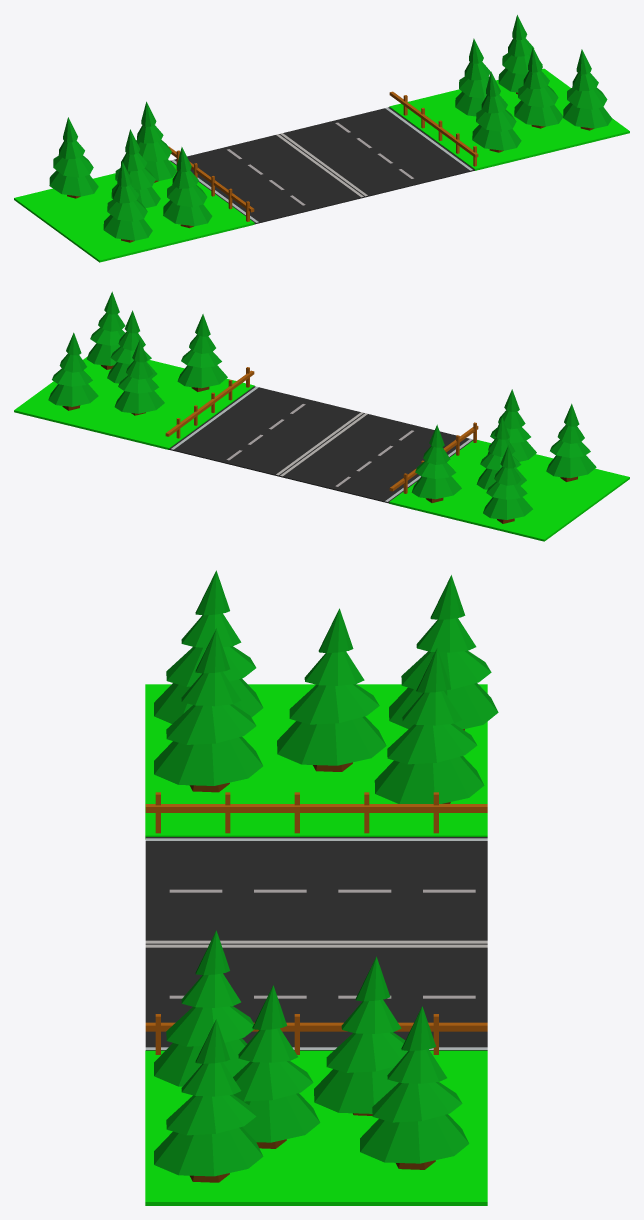
The model's file is SummerMap.fbx.
3 views of the same model, one above another, from view 1: azimuth 30°, elevation 25°; view 2: azimuth 150°, elevation 25°; view 3: azimuth 270°, elevation 25° (orthographic). The views are drawn at different scales.
Visible parts, largest first — view 1: Plane.013; view 2: Plane.013; view 3: Plane.013.
Part boxes in pixels (x1,y1,x2,y2): Plane.013: (14,15,629,262); Plane.013: (14,291,629,541); Plane.013: (145,570,498,1205).
Size of the model in its own units: 71.64 by 20.65 by 10.39.
